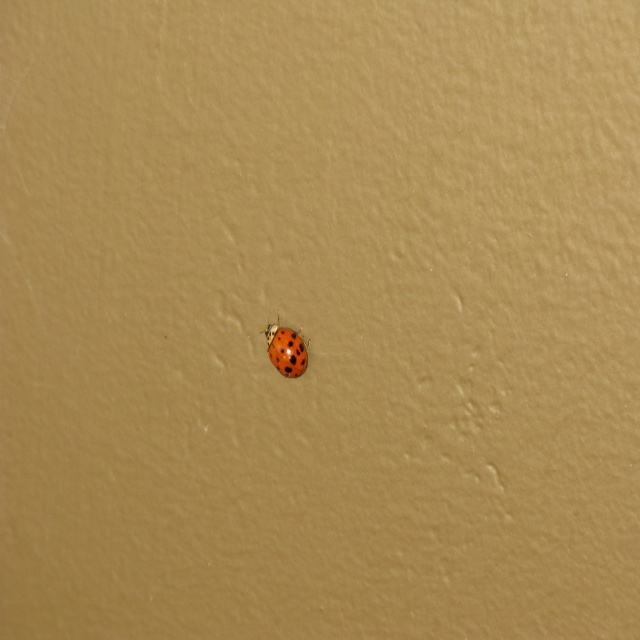Ladybug: (261, 307, 311, 377)
